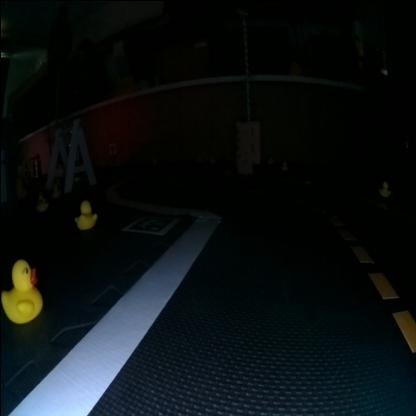Duckie: (2, 258, 42, 320), (74, 199, 96, 228), (378, 179, 390, 195), (34, 195, 47, 209), (280, 160, 286, 168)
QR code: (121, 214, 179, 233)
